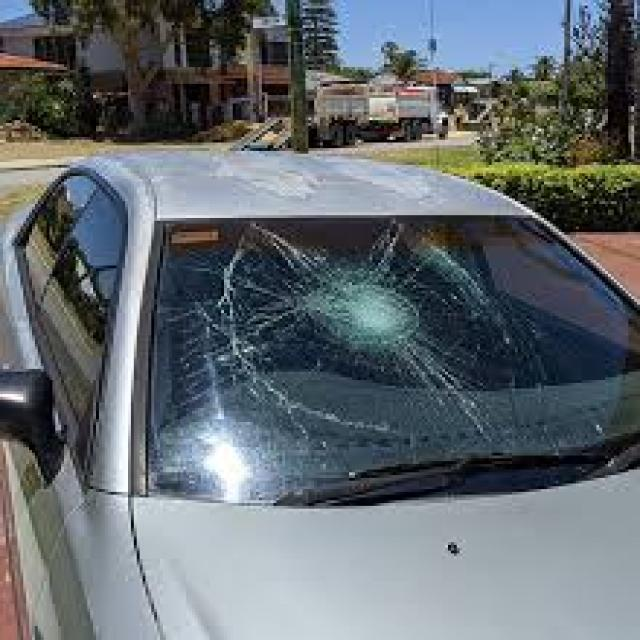damaged-windscreen: (146, 206, 640, 512)
